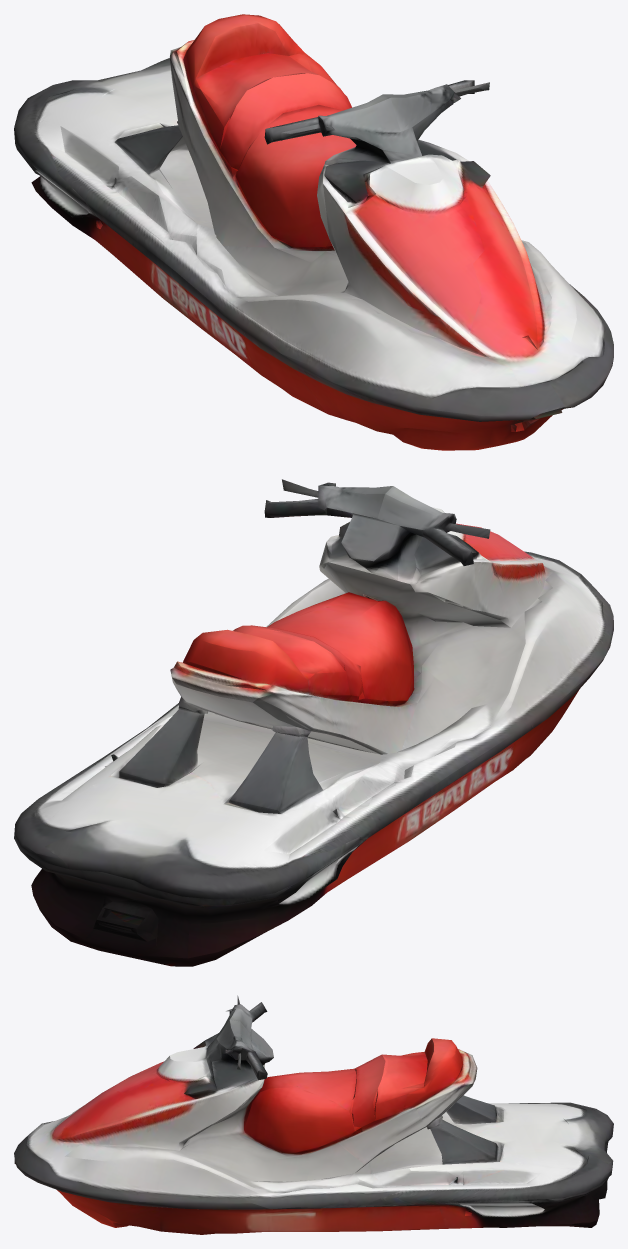
File: rescueJetSki.glb
3 views of the same model, one above another, from view 1: azimuth 30°, elevation 25°; view 2: azimuth 150°, elevation 25°; view 3: azimuth 270°, elevation 25° (orthographic). The views are drawn at different scales.
Parts seen in each view (by area): view 1: model; view 2: model; view 3: model.
Part boxes in pixels (x1,y1,x2,y2): model: (14,14,613,450); model: (14,479,613,966); model: (14,995,613,1234).
Bounding box in the file's own units: 0.7264 × 0.6767 × 1.9.
Materials: 1 (1 with a texture image).
